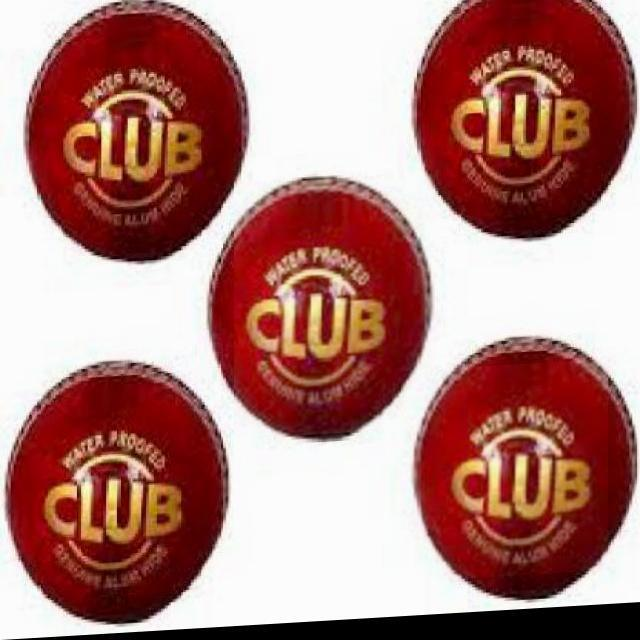-: (234, 179, 435, 442), (401, 367, 608, 588)
